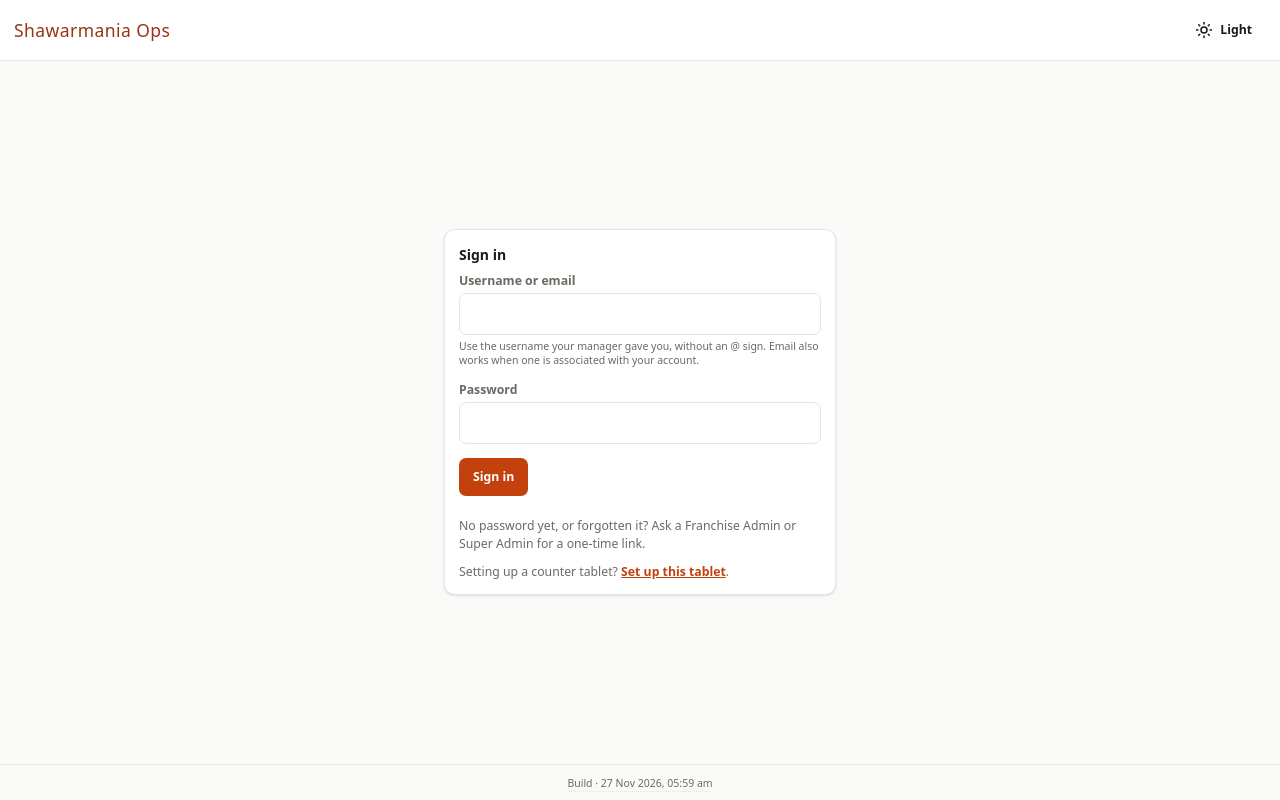
Test: sign in › keeps invalid username and password failures indistinguishable
Type "nobody" into the field labelled "Username or email" at (640, 314), box 459,293 -> 821,335
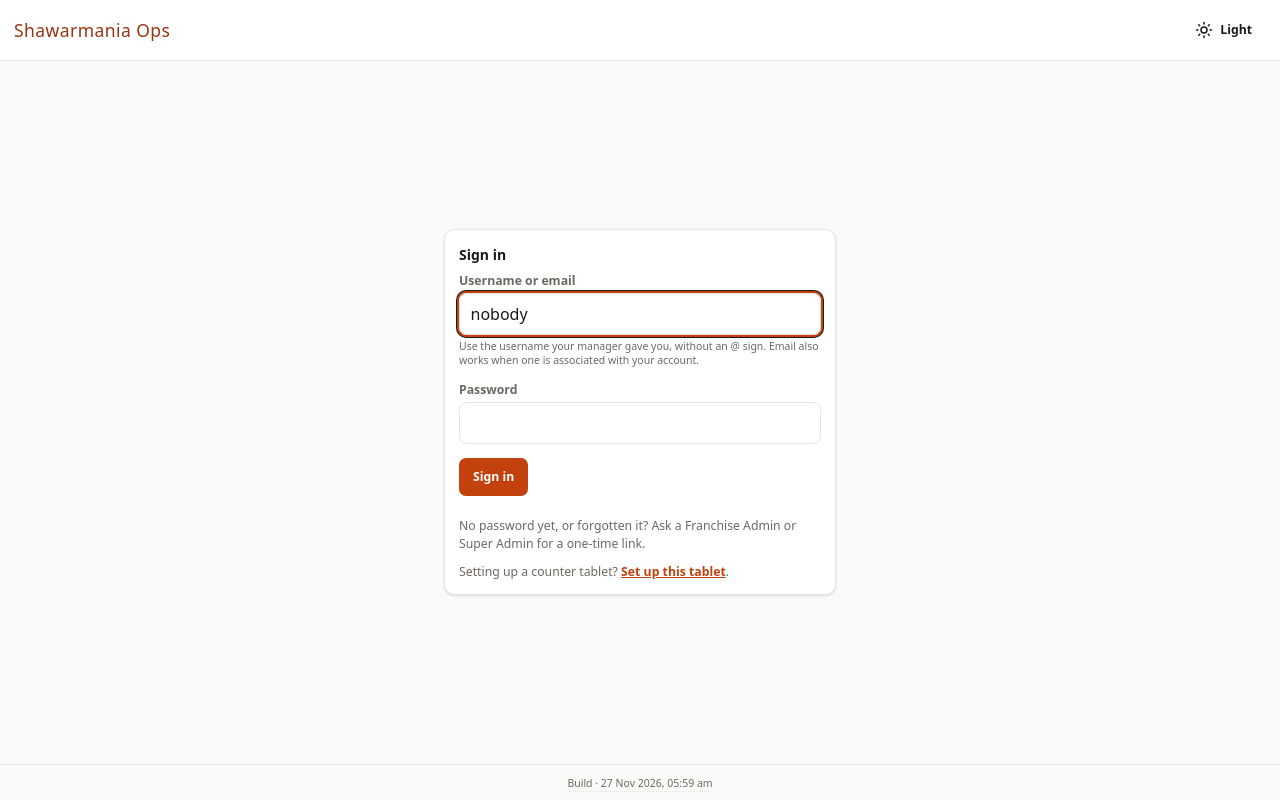
Type "whatever-goes" into the password field labelled "Password" at (640, 423), box 459,402 -> 821,444
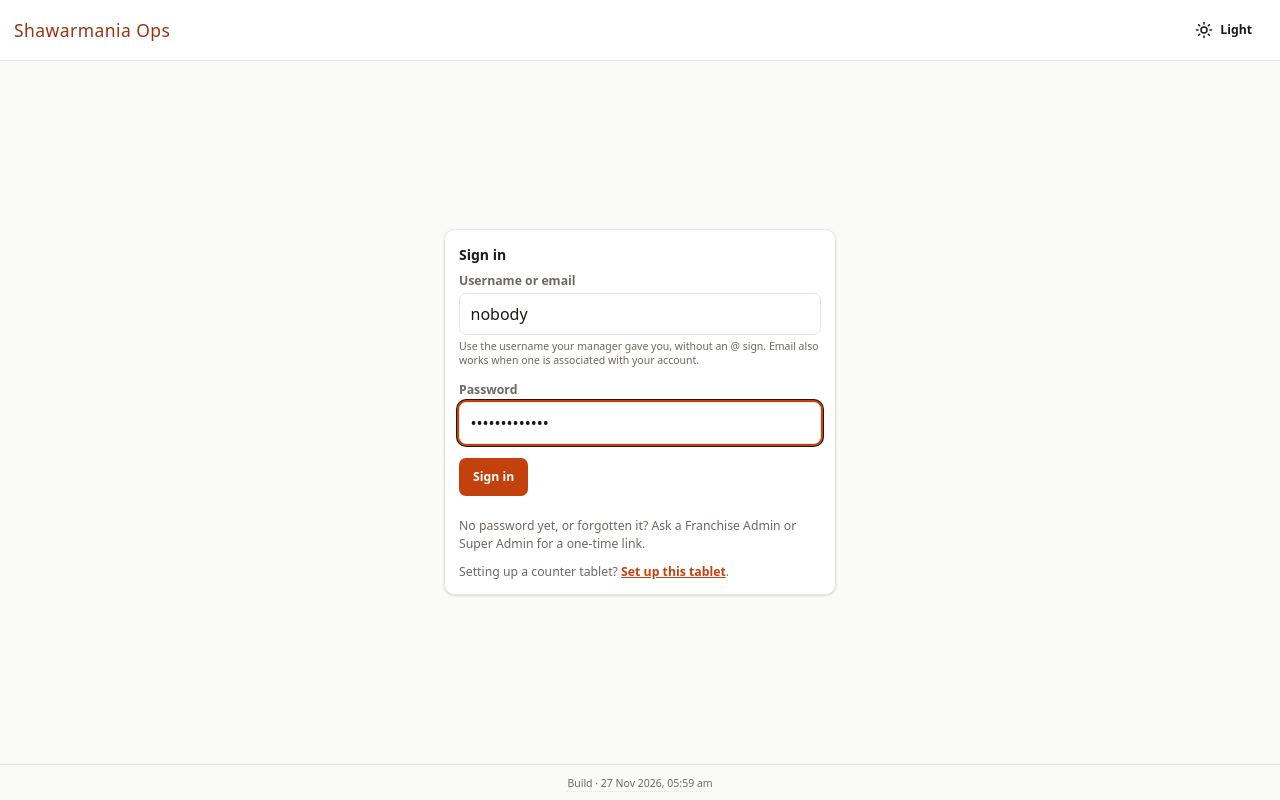
Click the button "Sign in" at (494, 477), box 459,458 -> 528,496
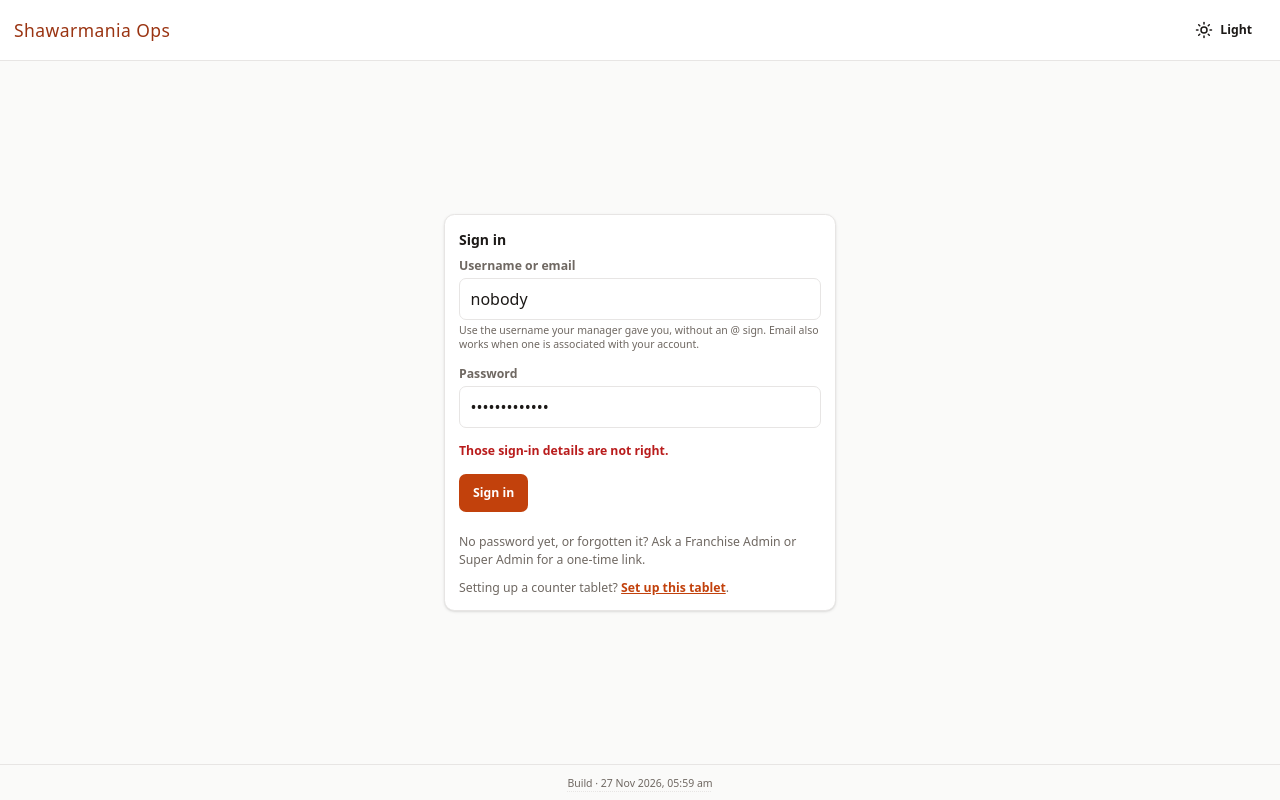
Expected: the message with test id "signin-error" reads "Those sign-in details are not right.", 459,442 -> 668,459
